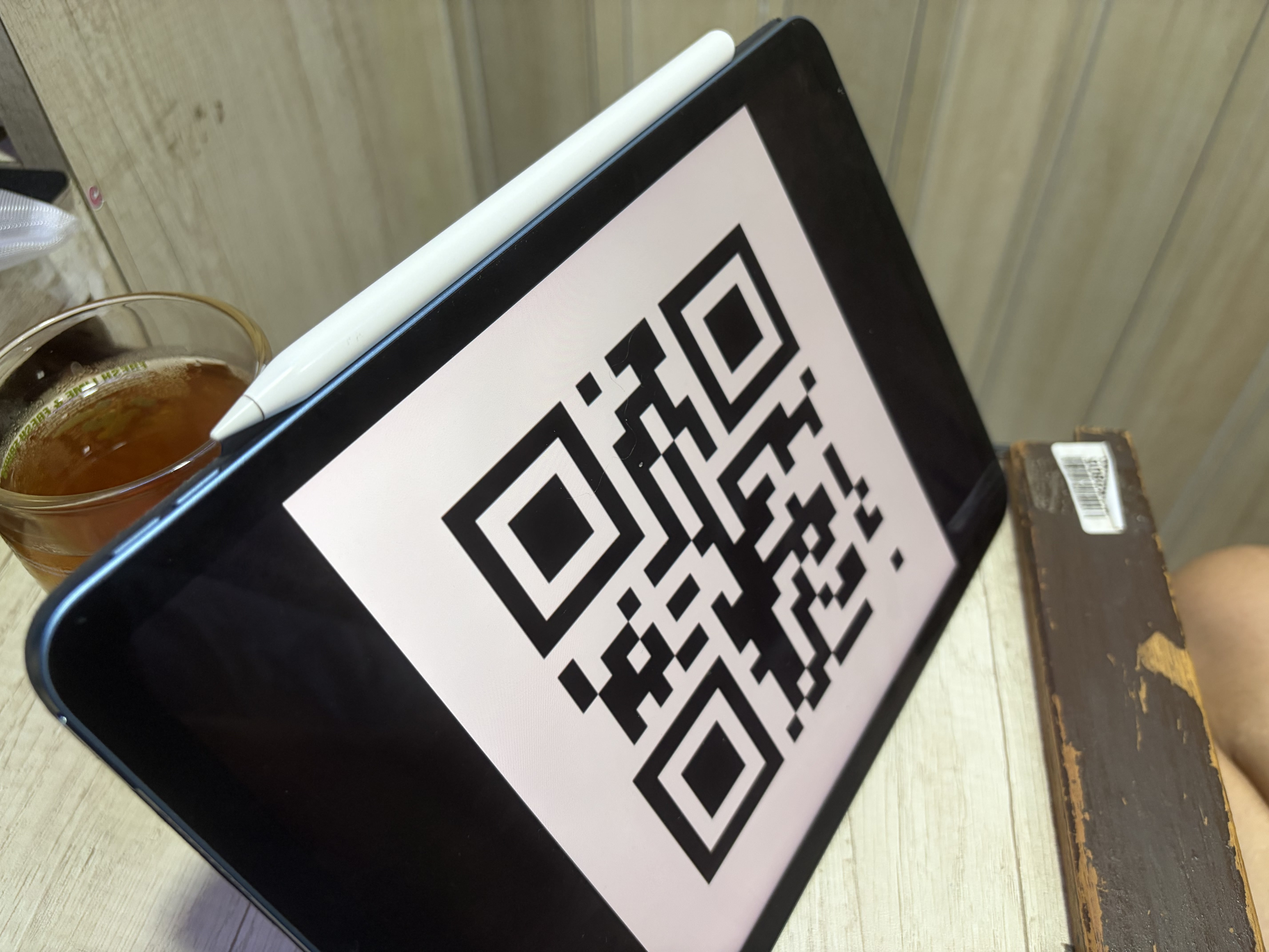QR: (348, 270, 976, 870)
